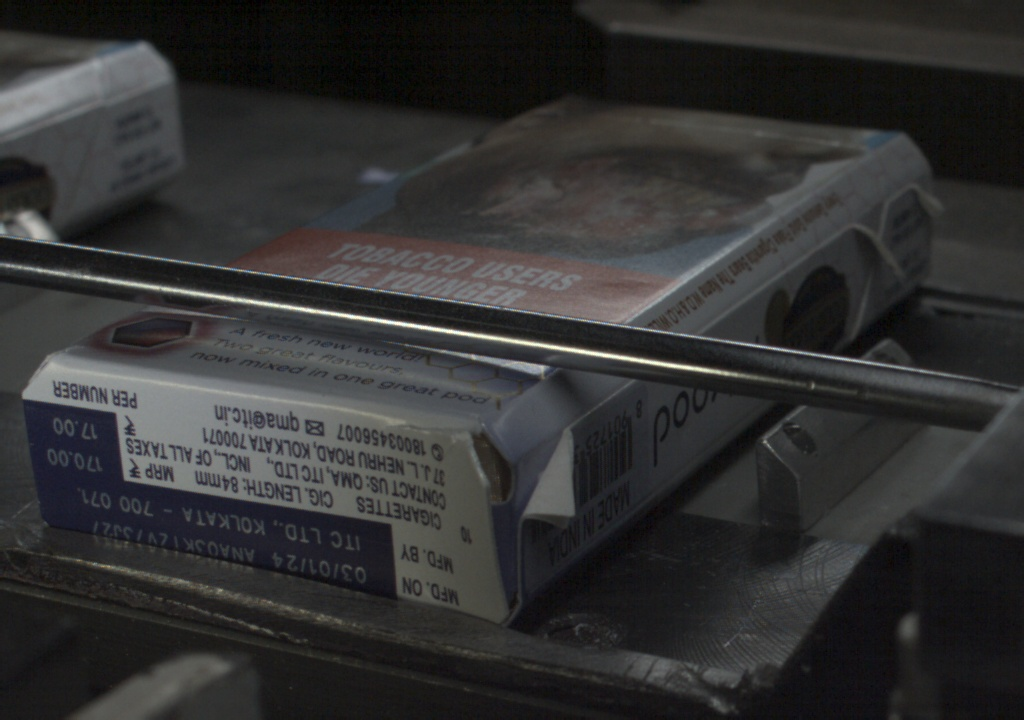g_label: (37, 483, 396, 599)
g_lmiter: (707, 277, 784, 332), (765, 237, 838, 291)
ng_bottom: (432, 410, 520, 621)
ng_lmiter: (523, 426, 583, 527), (845, 224, 905, 287)
ng_miter: (899, 174, 955, 230)
price: (30, 411, 122, 480)
